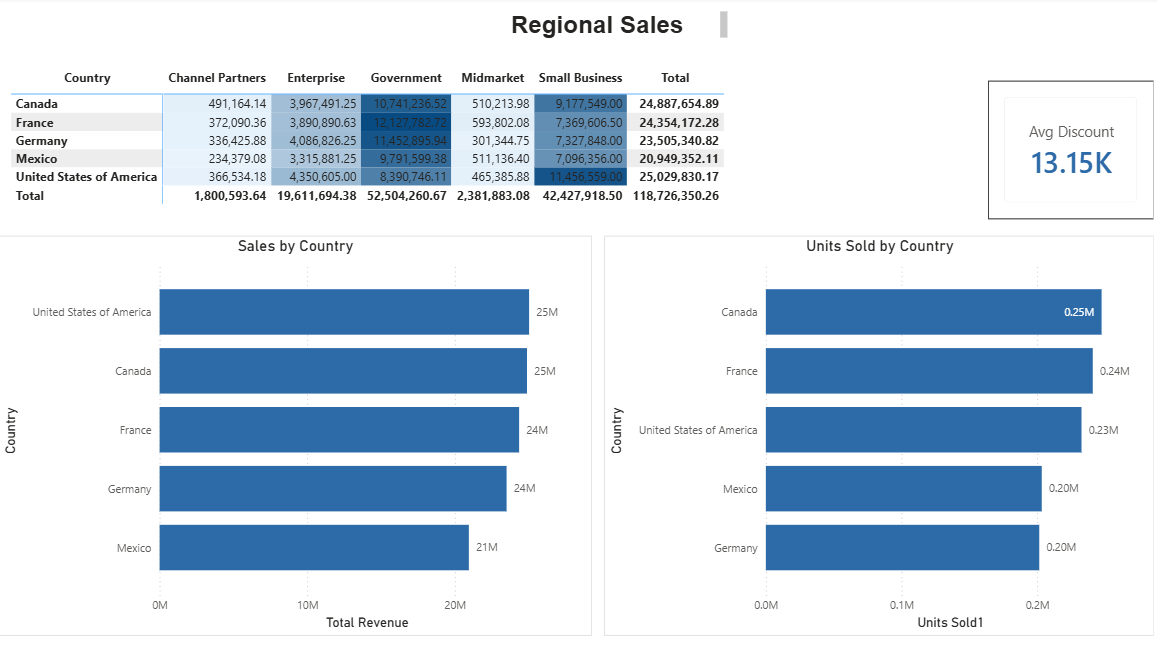

What the dashboard file says about the page in this screenshot:
{"tool":"powerbi","page":{"name":"Regional Sales ","canvas":[1280,720],"ordinal":2},"visuals":[{"type":"textbox","box":[525.6,11,279.9,39.8],"z":0},{"type":"clusteredBarChart","title":"Sales by Country","fields":{"Category":["financials.Country"],"Y":["financials.Total Revenue"]},"box":[0,262.1,651.8,439.1],"z":1},{"type":"clusteredBarChart","title":"Units Sold by Country","fields":{"Y":["Profit_Stages.Units Sold1"],"Category":["financials.Country"]},"box":[665.5,262.1,603.8,439.1],"z":2},{"type":"pivotTable","fields":{"Rows":["financials.Country"],"Columns":["financials.Segment"],"Values":["financials.Total Revenue"]},"box":[9.6,72.7,1030.5,171.5],"z":3},{"type":"cardVisual","fields":{"Data":["Profit_Stages.Avg Discount"]},"box":[1086.8,91.9,182.5,152.3],"z":4}]}

Visuals, with their boxes in screenshot pixels (x1, y1, x2, y2), scaled from the page's 1280x720 canvas onto the 1157x650 screenshot:
textbox: Rect(475, 10, 728, 46)
"Sales by Country" clusteredBarChart: Rect(0, 237, 589, 633)
"Units Sold by Country" clusteredBarChart: Rect(602, 237, 1147, 633)
pivotTable - financials.Country x financials.Segment: Rect(9, 66, 940, 220)
cardVisual - Profit_Stages.Avg Discount: Rect(982, 83, 1147, 220)
